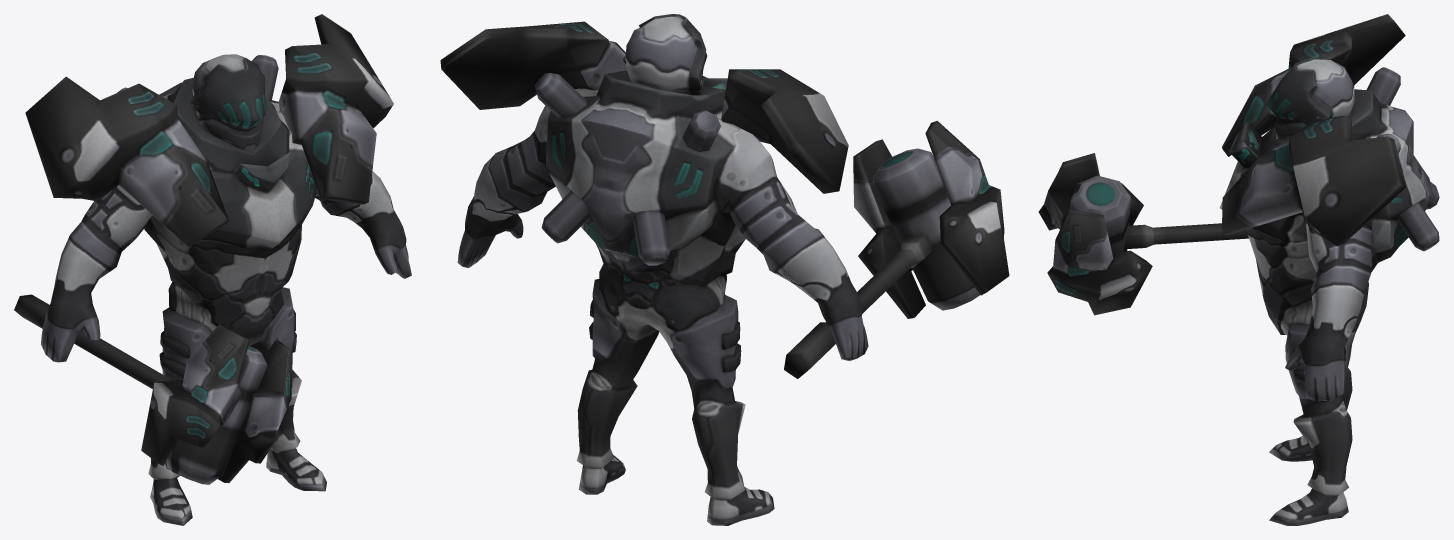
3 views of the same model, side by side, from view 1: azimuth 30°, elevation 25°; view 2: azimuth 150°, elevation 25°; view 3: azimuth 270°, elevation 25° (orthographic). The views are drawn at different scales.
Visible parts, largest first — view 1: Hammer_Body; view 2: Hammer_Body; view 3: Hammer_Body.
Part boxes in pixels (box(x1,y1,x2,y2)): Hammer_Body: box(14, 14, 411, 525); Hammer_Body: box(440, 14, 1009, 525); Hammer_Body: box(1038, 14, 1439, 525).
Size of the model in its own units: 1.95 by 2.19 by 1.88.
Materials: 1 (1 with a texture image).
